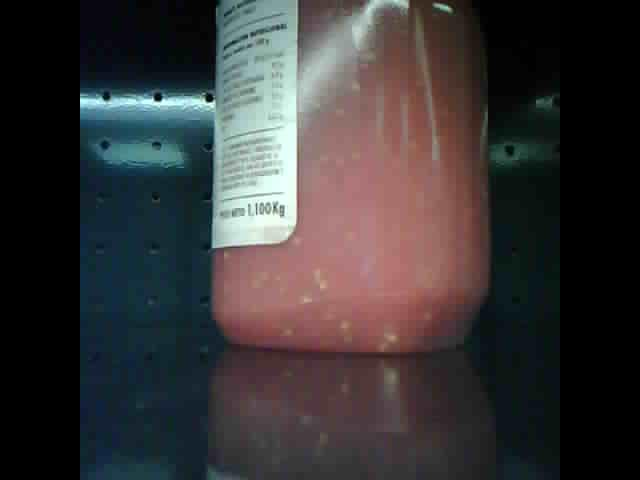tomate: (210, 5, 492, 355)
